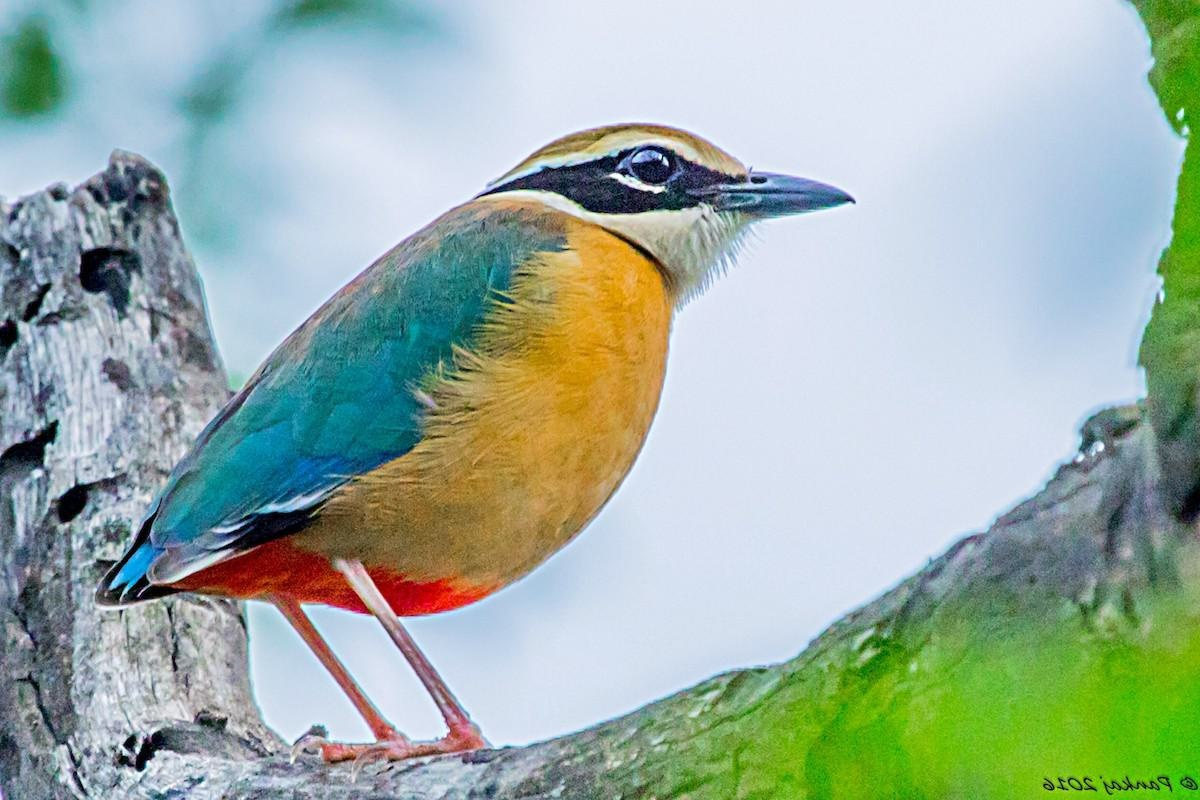pitta: (109, 110, 877, 724)
